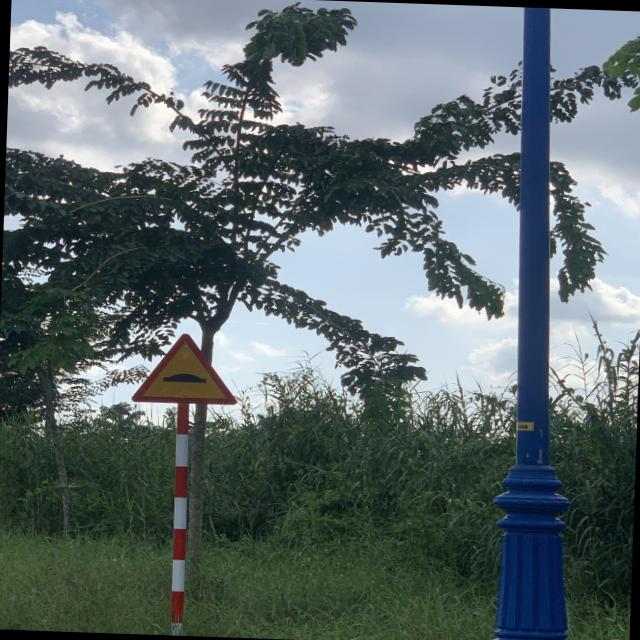Duong_Cong_Ben_Phai: (130, 329, 240, 406)
